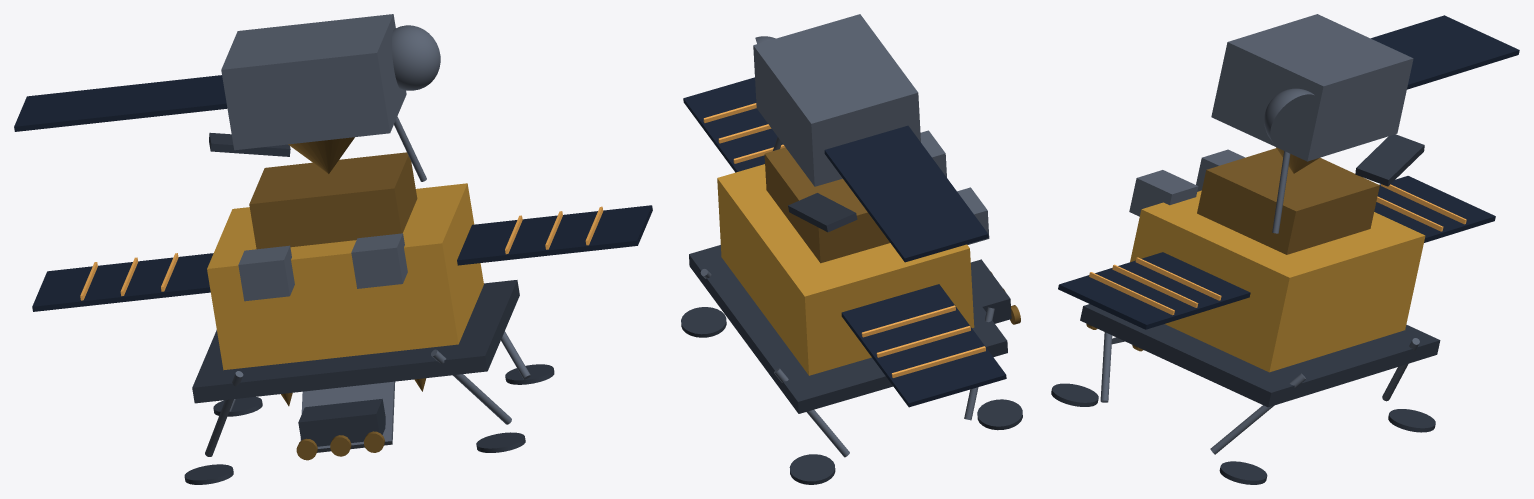
File: chandrayaan-3.glb
The picture shows the model from 3 angles, left to right: view 1: azimuth 30°, elevation 25°; view 2: azimuth 150°, elevation 25°; view 3: azimuth 270°, elevation 25°; orthographic projection. The views are drawn at different scales.
Visible parts, largest first — view 1: Bus_MainDeck, PropulsionModule_Bus, Bus_TopAvionicsBox, Bus_LandingPlatform, PropulsionModule_SolarPanel, SolarPanels_Right, SolarPanels_Left, Payload_RoverBody_Pragnan, Payload_InstrumentBox_R, Payload_InstrumentBox_L, Antenna_Dish, Payload_Ramp (+7 smaller); view 2: Bus_MainDeck, PropulsionModule_Bus, PropulsionModule_SolarPanel, SolarPanels_Left, Bus_LandingPlatform, Bus_TopAvionicsBox, SolarPanels_Right, SolarPanels, Antenna_HighGainPanel, Payload_RoverBody_Pragnan, Thrusters_Footpad_2, Thrusters_Footpad_3 (+5 smaller); view 3: Bus_MainDeck, PropulsionModule_Bus, Bus_TopAvionicsBox, Bus_LandingPlatform, SolarPanels_Right, PropulsionModule_SolarPanel, SolarPanels_Left, SolarPanels, Antenna_HighGainPanel, Payload_InstrumentBox_R, Thrusters_Footpad_2, Thrusters_Footpad_4 (+6 smaller).
Part boxes in pixels (x1,y1,x2,y2): Bus_MainDeck: [207, 183, 483, 370]; PropulsionModule_Bus: [221, 14, 406, 150]; Bus_TopAvionicsBox: [249, 152, 417, 249]; Bus_LandingPlatform: [192, 280, 519, 403]; PropulsionModule_SolarPanel: [14, 75, 227, 131]; SolarPanels_Right: [457, 205, 652, 265]; SolarPanels_Left: [32, 253, 213, 311]; Payload_RoverBody_Pragnan: [298, 398, 385, 446]; Payload_InstrumentBox_R: [351, 233, 407, 288]; Payload_InstrumentBox_L: [238, 245, 294, 301]; Antenna_Dish: [392, 25, 440, 90]; Payload_Ramp: [300, 381, 395, 452]; Bus_MainDeck: [717, 164, 974, 375]; PropulsionModule_Bus: [753, 14, 920, 186]; PropulsionModule_SolarPanel: [824, 125, 988, 262]; SolarPanels_Left: [841, 284, 1006, 407]; Bus_LandingPlatform: [689, 245, 1007, 413]; Bus_TopAvionicsBox: [764, 147, 889, 263]; SolarPanels_Right: [683, 77, 783, 172]; SolarPanels: [703, 103, 985, 377]; Antenna_HighGainPanel: [788, 193, 857, 232]; Payload_RoverBody_Pragnan: [970, 259, 1011, 323]; Thrusters_Footpad_2: [681, 307, 726, 337]; Thrusters_Footpad_3: [977, 399, 1022, 430]; Bus_MainDeck: [1130, 190, 1425, 372]; PropulsionModule_Bus: [1211, 14, 1413, 161]; Bus_TopAvionicsBox: [1197, 148, 1379, 254]; Bus_LandingPlatform: [1080, 304, 1440, 407]; SolarPanels_Right: [1058, 252, 1250, 329]; PropulsionModule_SolarPanel: [1371, 15, 1519, 89]; SolarPanels_Left: [1374, 176, 1495, 242]; SolarPanels: [1089, 184, 1466, 315]; Antenna_HighGainPanel: [1355, 134, 1424, 186]; Payload_InstrumentBox_R: [1129, 170, 1198, 216]; Thrusters_Footpad_2: [1219, 461, 1267, 484]; Thrusters_Footpad_4: [1051, 383, 1098, 406].
Bounding box in the file's own units: 4.9 × 4.05 × 4.24.
